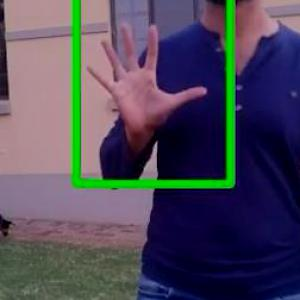follow_hand: (81, 17, 208, 144)
